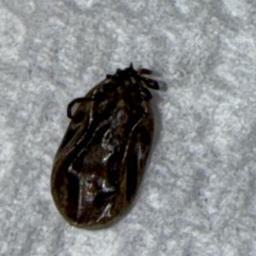Ixodes scapularis: (83, 48, 177, 222)
